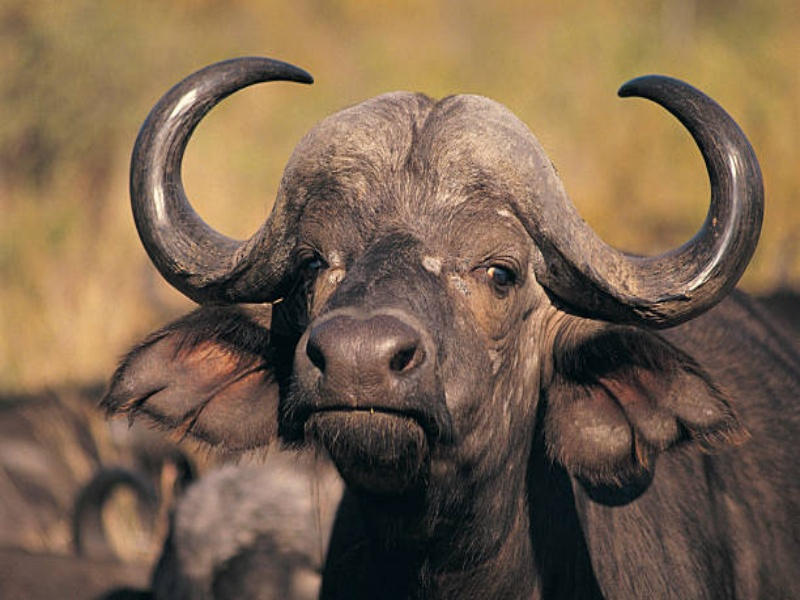buffalo: (59, 53, 797, 584)
